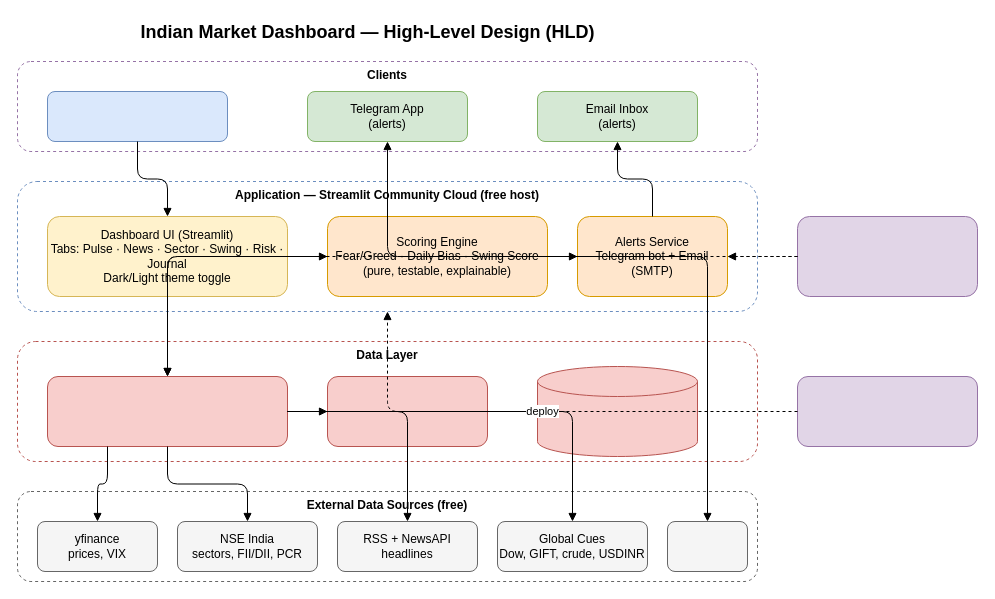
The diagram is 995 pixels wide and 599 high, and some of its shapes have lost their labels. Each missing label, with the centre of its shape:
"Cache (Streamlit + on-disk)" belongs at pixel 407 411.
"Data Fetchers prices · indices · news · FII/DII · global cues" belongs at pixel 167 411.
"FinBERT sentiment (local)" belongs at pixel 707 546.
"GitHub Actions cron: pre-market refresh" belongs at pixel 887 256.
"GitHub Repo (public) code + CI/CD" belongs at pixel 887 411.
"SQLite daily history (backtest)" belongs at pixel 617 411.
"Trader (Web Browser) Dashboard user" belongs at pixel 137 116.
